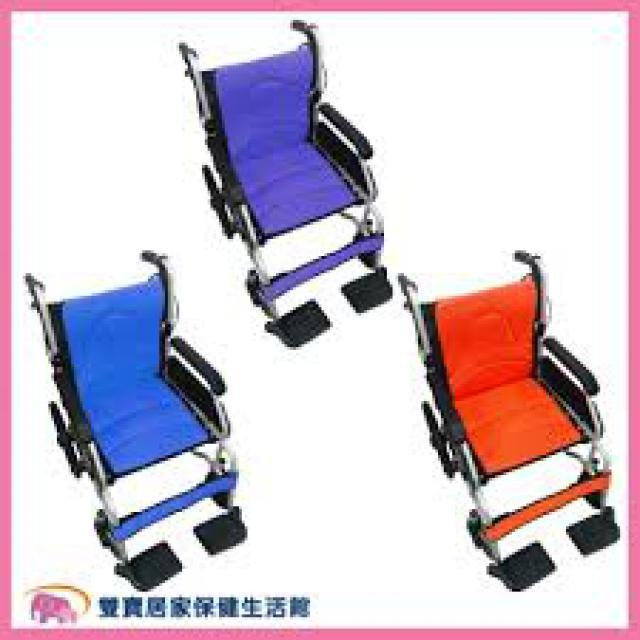wheelchair: (392, 244, 626, 592), (179, 20, 404, 353), (22, 247, 236, 584)
